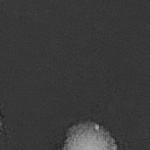colony: (58, 116, 121, 150), (0, 78, 7, 150)
